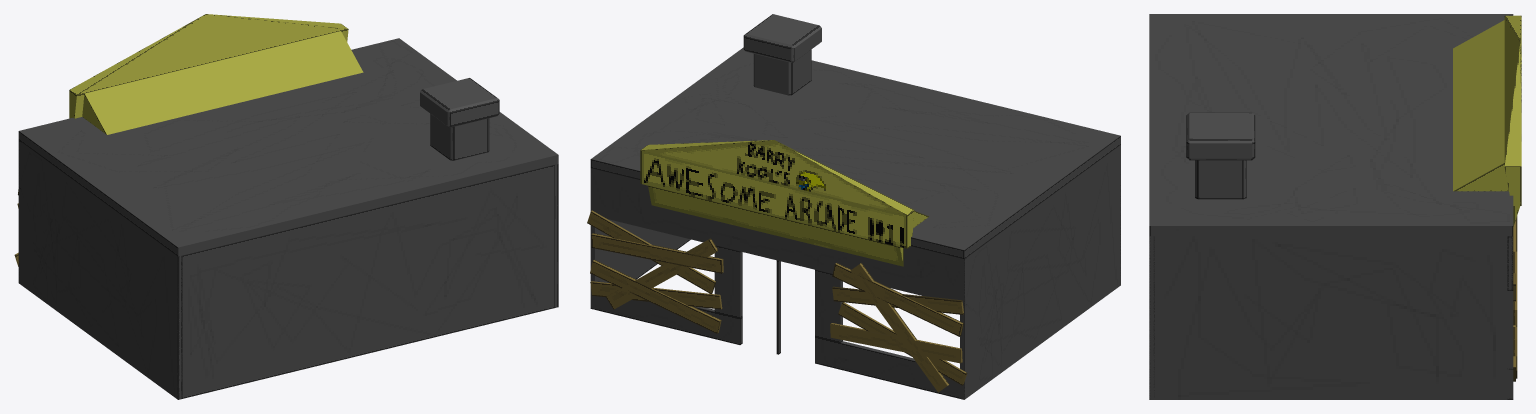
File: Arcade.glb
3 renders of one model, left to right at view 1: azimuth 30°, elevation 25°; view 2: azimuth 150°, elevation 25°; view 3: azimuth 270°, elevation 25°, orthographic. The views are drawn at different scales.
Parts seen in each view (by area): view 1: Building, Sign, Pipe; view 2: Building, Sign, Planks, Pipe; view 3: Building, Sign, Pipe, Planks.
Boxes of the visible parts, bbox=[...] form: Building: bbox=[18, 38, 558, 399]; Sign: bbox=[69, 14, 363, 134]; Pipe: bbox=[420, 78, 499, 160]; Building: bbox=[590, 47, 1120, 399]; Sign: bbox=[640, 140, 928, 266]; Planks: bbox=[587, 210, 967, 392]; Pipe: bbox=[743, 14, 821, 95]; Building: bbox=[1149, 14, 1513, 399]; Sign: bbox=[1453, 15, 1521, 226]; Pipe: bbox=[1186, 112, 1255, 199]; Planks: bbox=[1513, 216, 1517, 381].
Size of the model in its own units: 22.2 by 12.12 by 16.25.
1 material, 1 textured.
